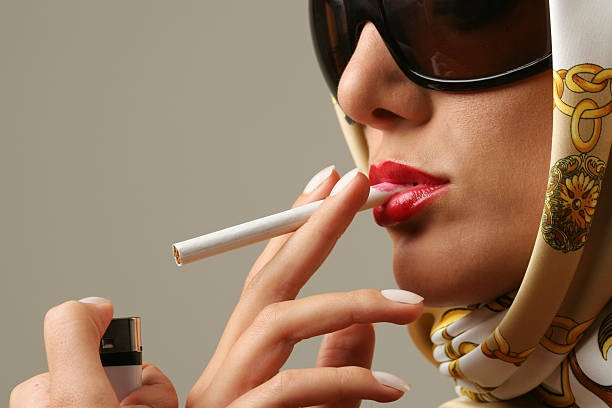sigaretta: (162, 180, 393, 263)
